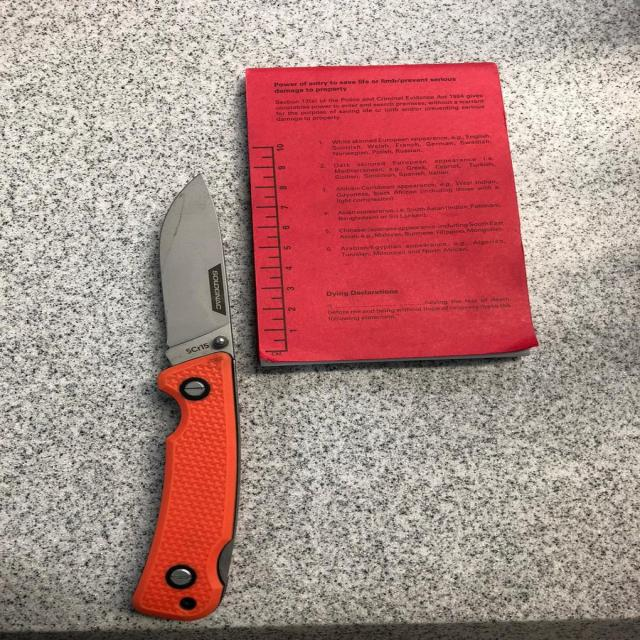Sharp-Object: (135, 171, 238, 624)
